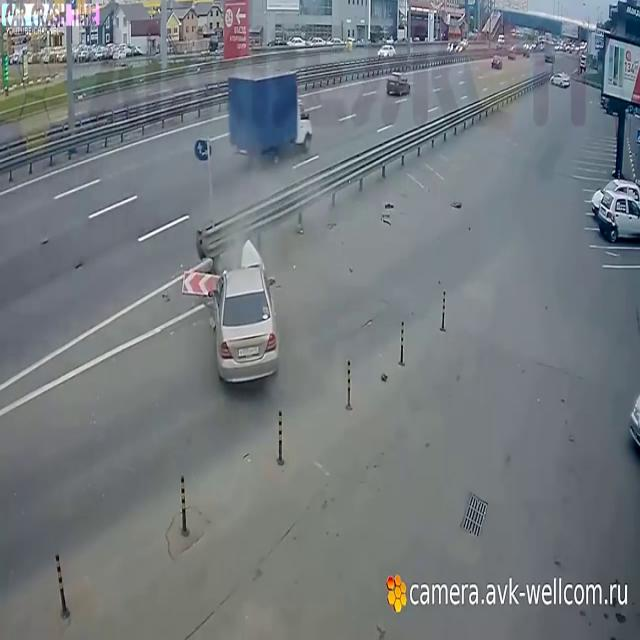Accident: (180, 191, 293, 408)
